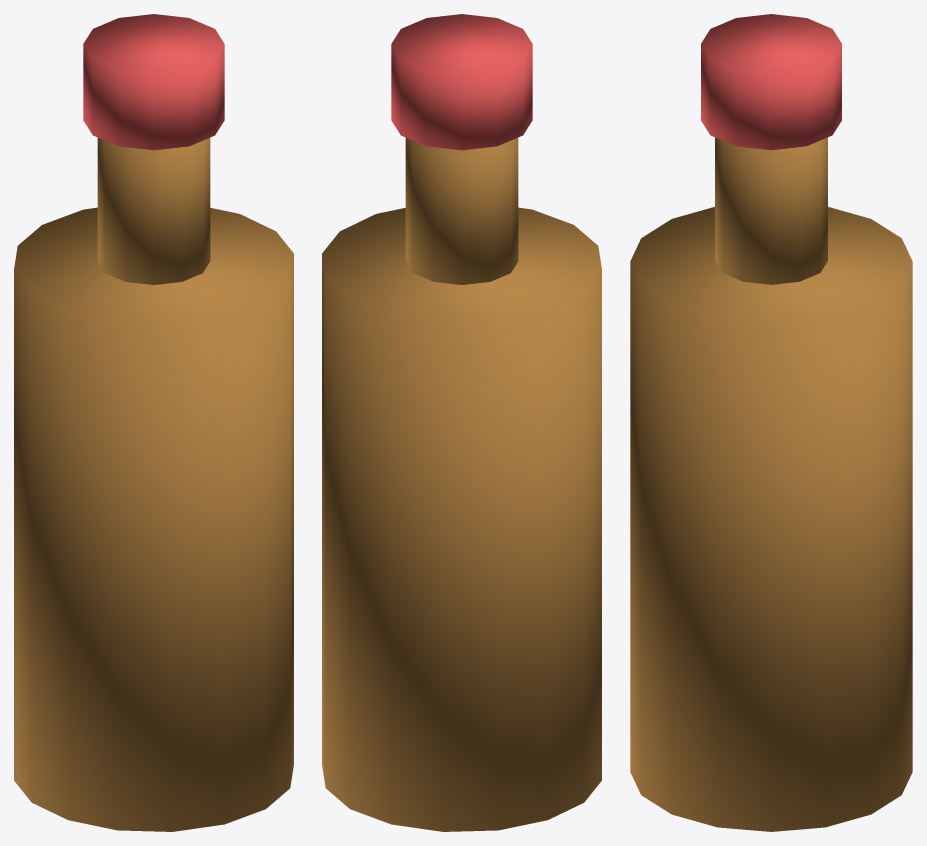
Rendered from fish_sauce.fbx.
The picture shows the model from 3 angles, left to right: view 1: azimuth 30°, elevation 25°; view 2: azimuth 150°, elevation 25°; view 3: azimuth 270°, elevation 25°; orthographic projection.
Visible parts, largest first — view 1: fish_sauce; view 2: fish_sauce; view 3: fish_sauce.
Part boxes in pixels (x1=…): fish_sauce: x1=14, y1=14, x2=293, y2=831; fish_sauce: x1=322, y1=14, x2=601, y2=831; fish_sauce: x1=630, y1=14, x2=912, y2=831.
Bounding box in the file's own units: 0.1 × 0.285 × 0.1.
